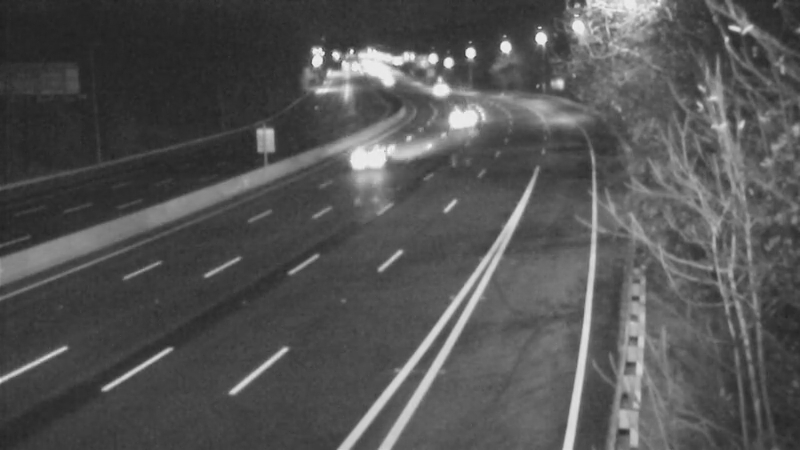vehicle: (334, 118, 414, 198), (412, 66, 462, 116), (436, 96, 486, 146)
